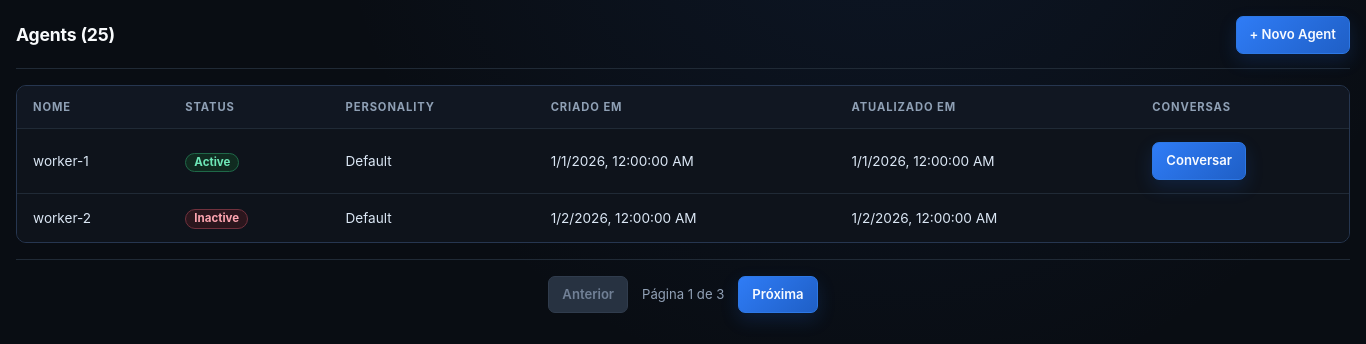
Test: AgentList › navigates to last page and disables next button
The width and height of the screenshot is (1366, 344).
Check: the text "Página 1 de 3" is shown, box [642, 285, 724, 304]
Click the button "Próxima". click: [778, 295]
box: [738, 276, 818, 313]
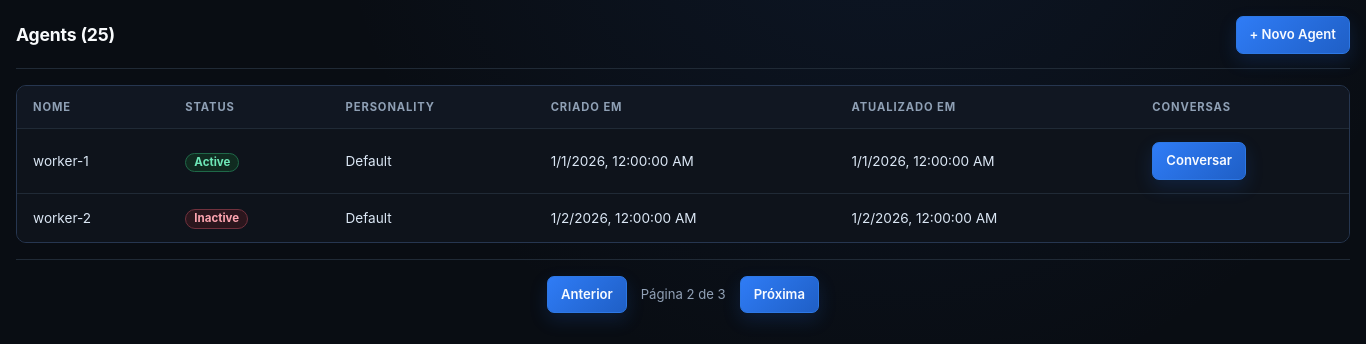
Check: the text "Página 2 de 3" is shown, box [641, 285, 726, 304]
Click the button "Próxima". click: [779, 295]
box: [740, 276, 819, 313]
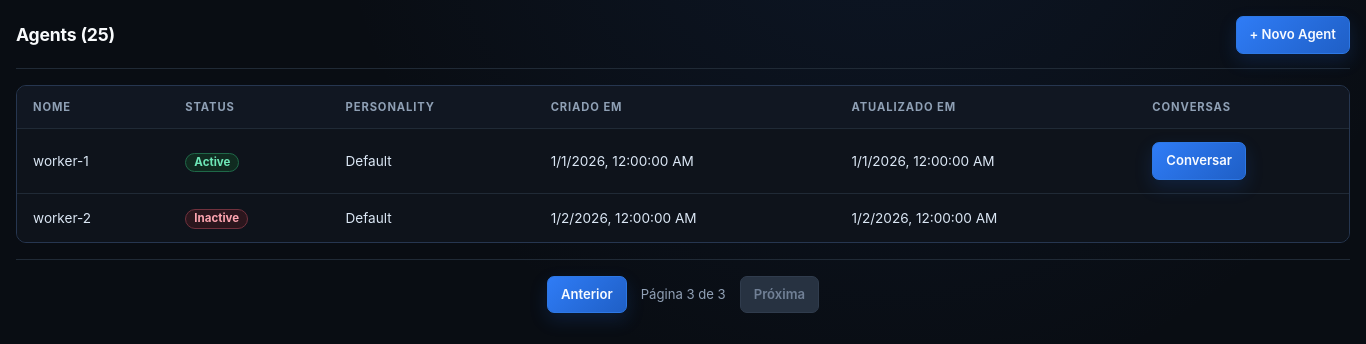
Check: the text "Página 3 de 3" is shown, box [641, 285, 726, 304]
Check: the button "Próxima" is disabled, box [740, 276, 819, 313]
